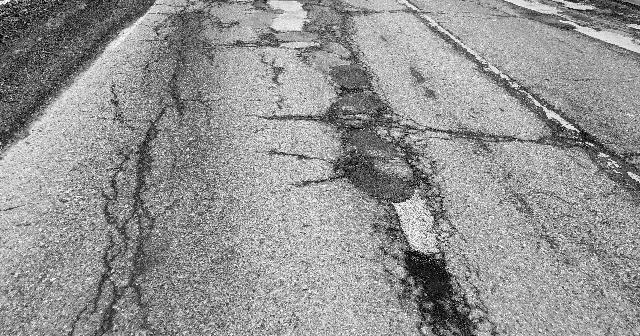Pothole: (373, 227, 477, 336), (251, 0, 315, 40)
